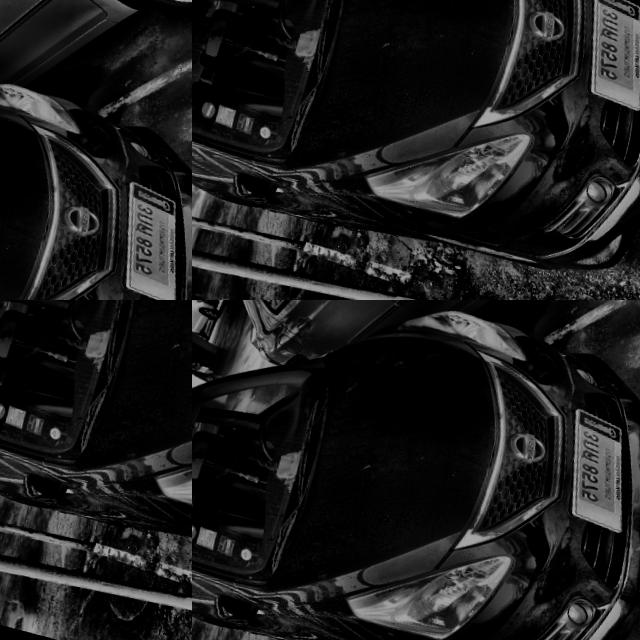license-plate: (543, 401, 640, 531)
